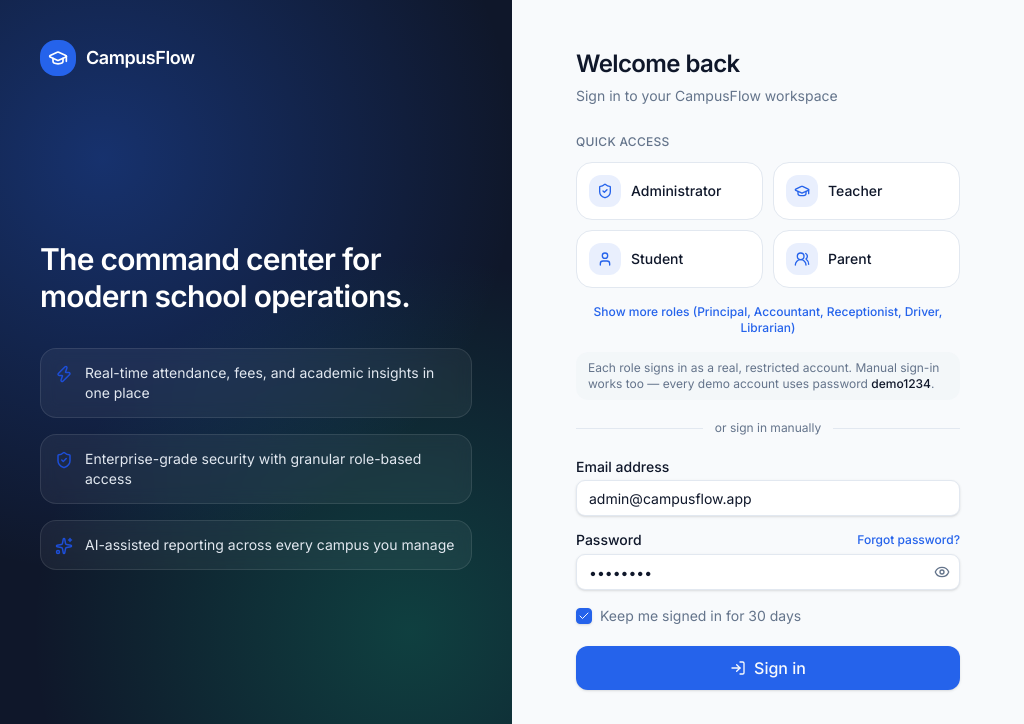
LoginPage — manual sign-in form › shows an inline error and does not authenticate on an invalid password
Step 1. Type "wrongpass" into the password field labelled "Password" → point(768, 572), box [576, 554, 960, 590]
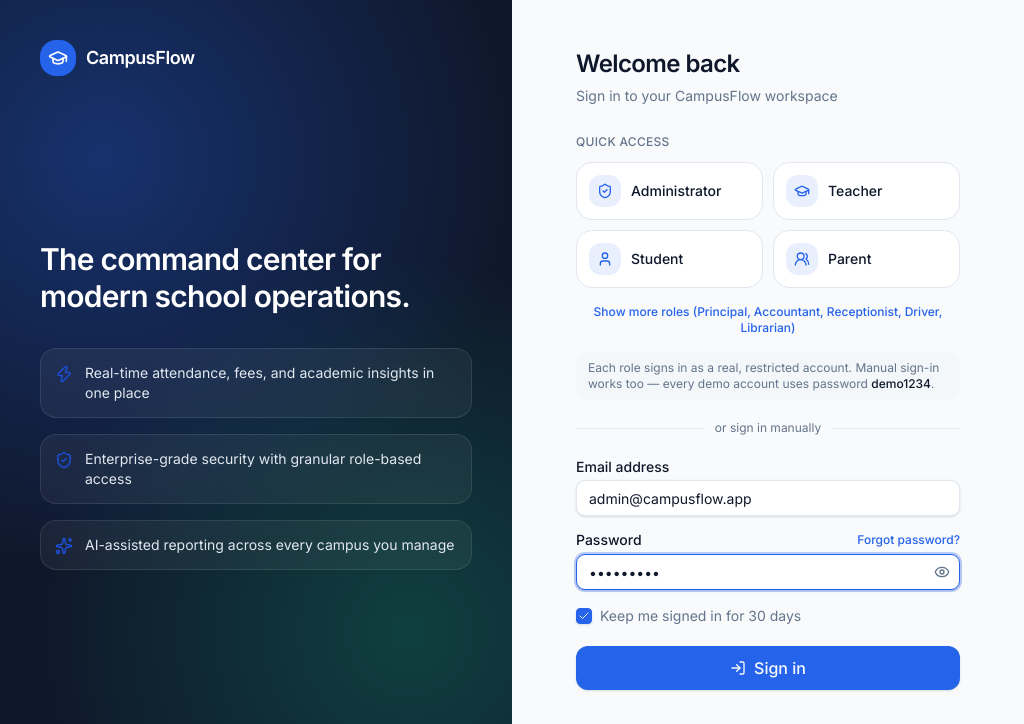
Step 2. Click the button "Sign in" → point(768, 668), box [576, 646, 960, 690]
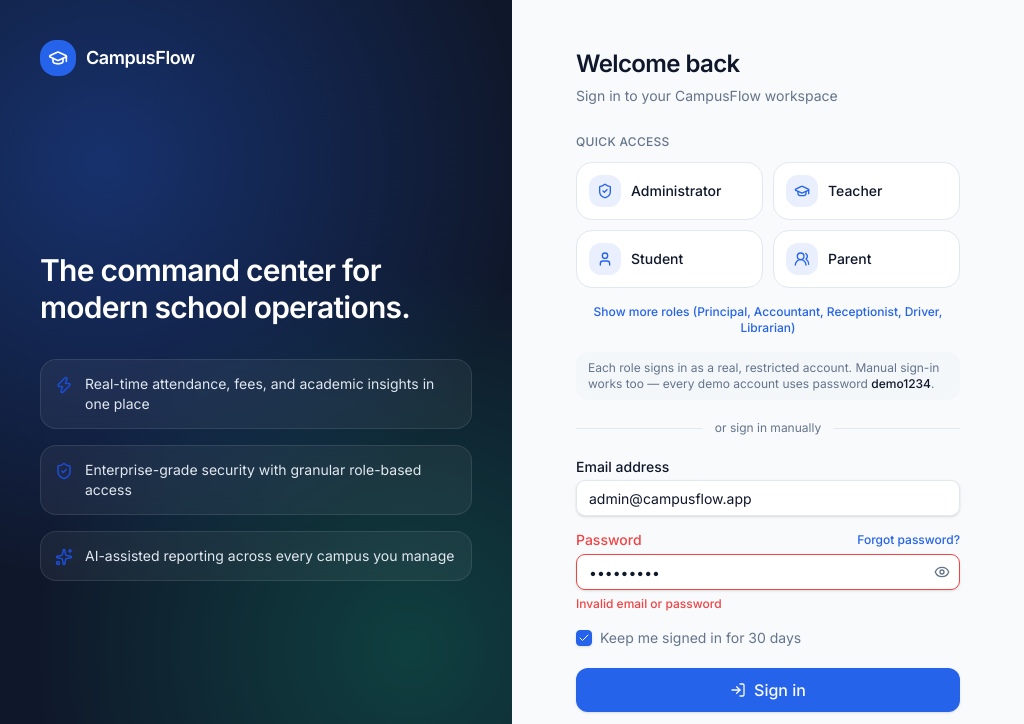
Expected: the text "Invalid email or password" is shown, [576, 596, 722, 611]
